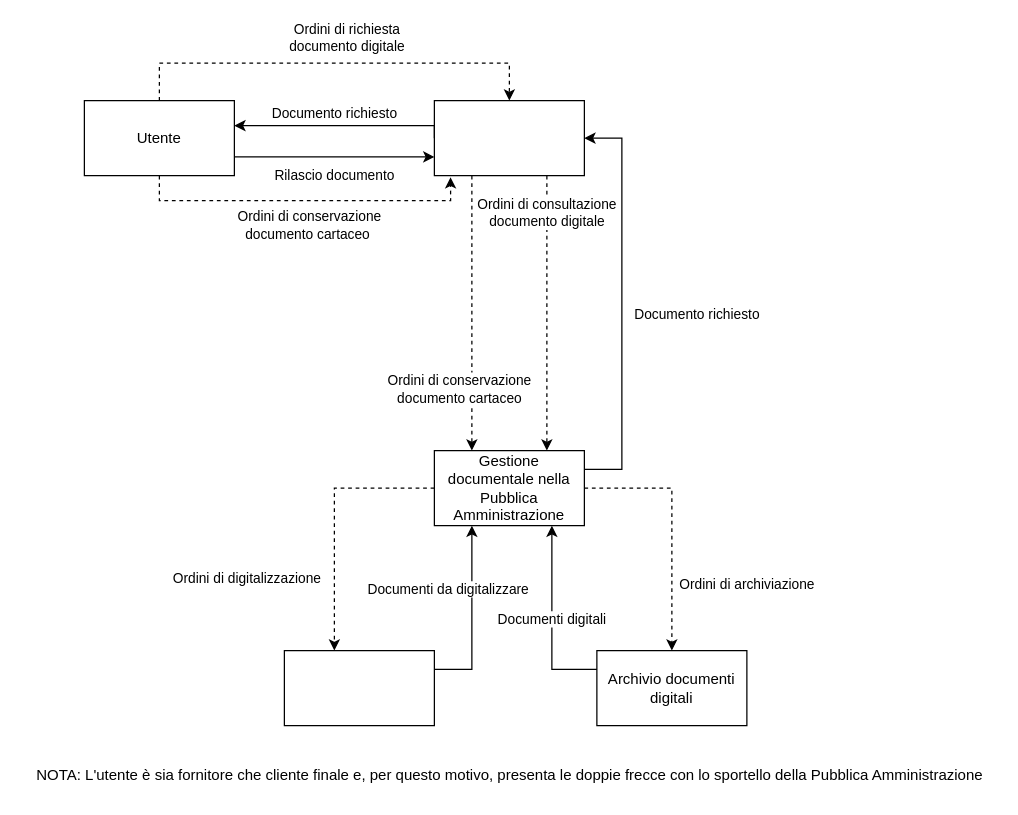
This 1018x815 diagram has some shape labels left out. Here are the shapes that lost their labels. From the top down, the centre of each, then its label:
point (508, 137): Sportello della Pubblica Amministrazione
point (358, 687): Archivio documenti cartacei
